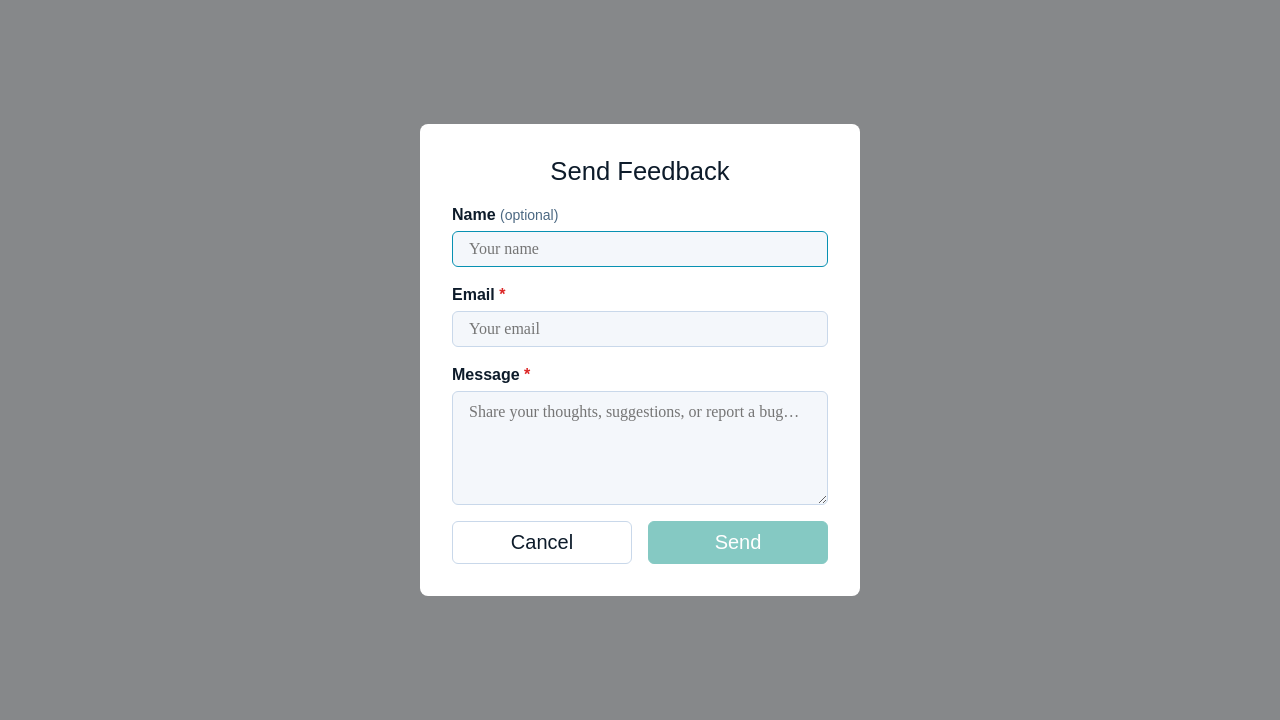
Test: FeedbackModal › shows success state after successful submission
The image size is (1280, 720).
Type "a@b.com" into the field labelled "Email *" at [640, 330], box x1=452 y1=312 x2=828 y2=348
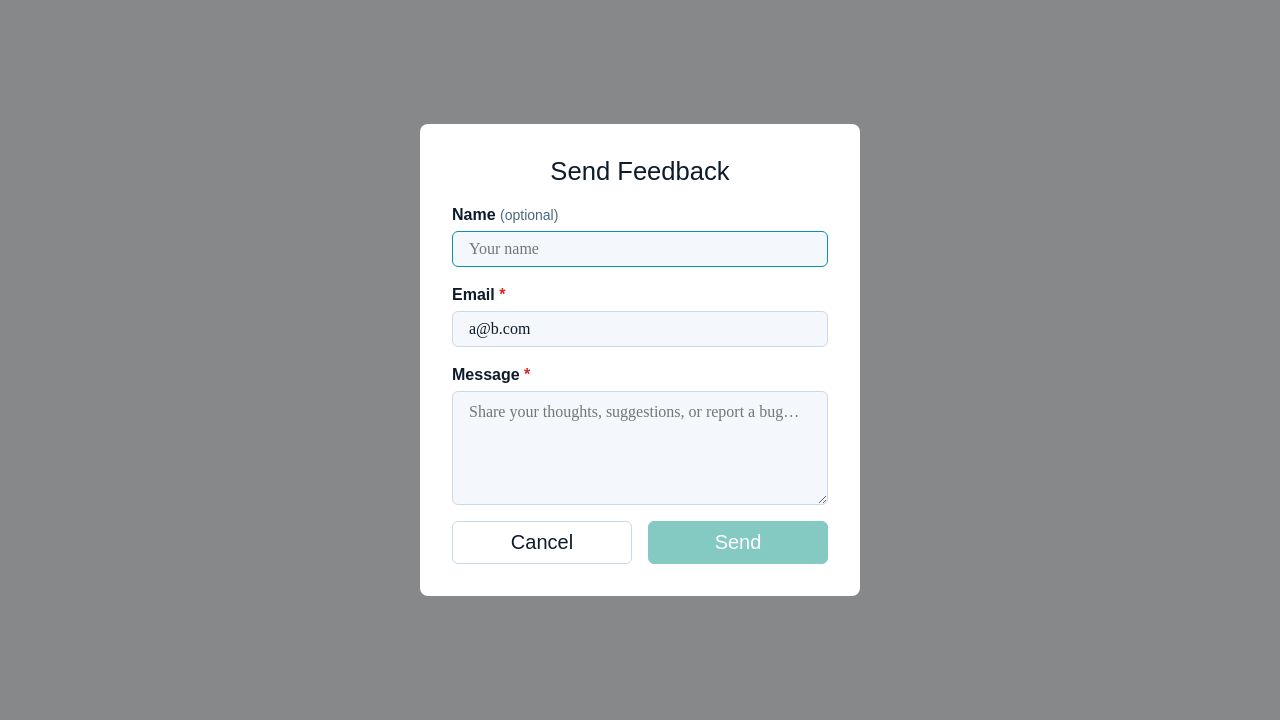
Type "Great app!" into the text box labelled "Message *" at [640, 448], box x1=452 y1=392 x2=828 y2=506
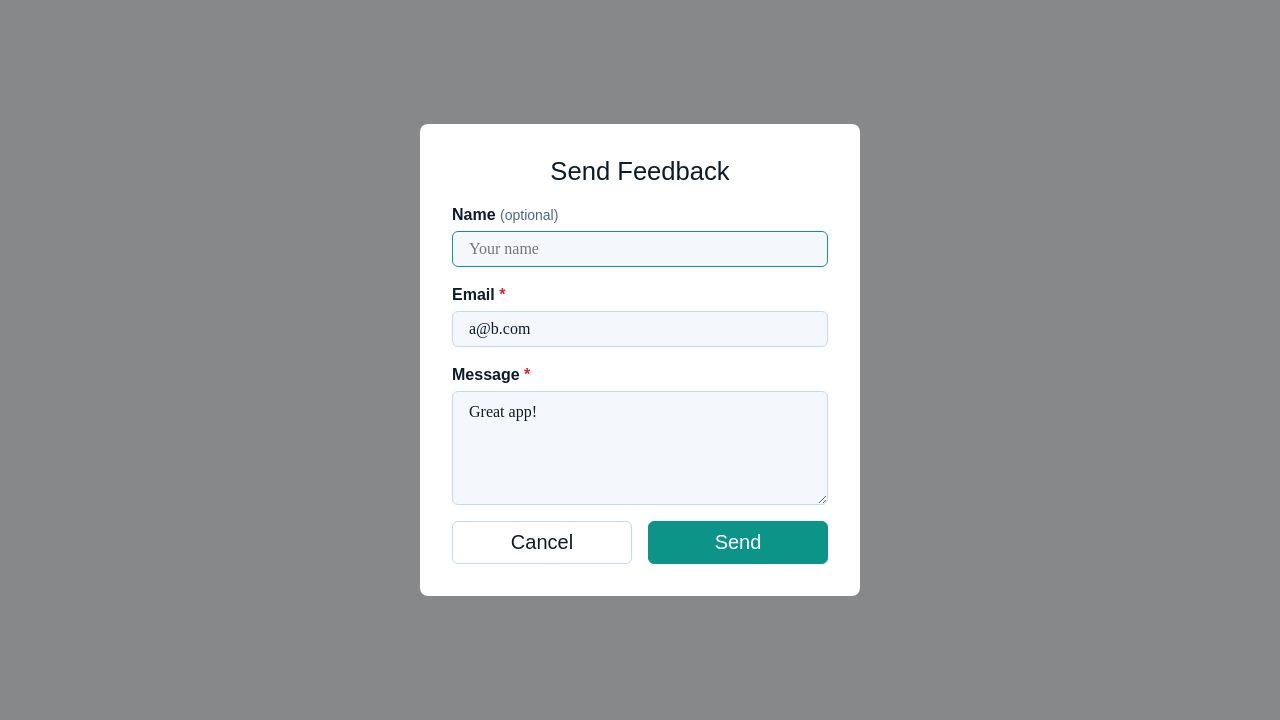
Click the button "Send" at [738, 543], box x1=648 y1=522 x2=828 y2=564
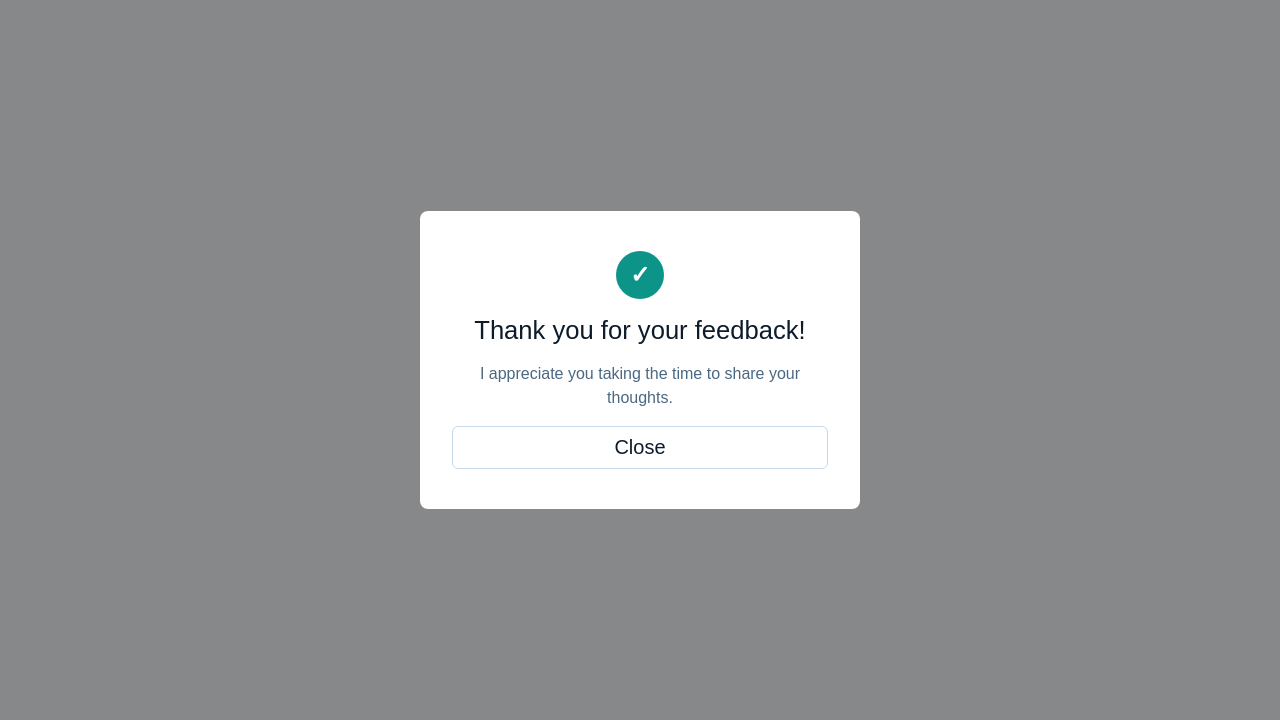
Expected: the heading "Thank you for your feedback!" is shown, x1=474 y1=314 x2=806 y2=346
